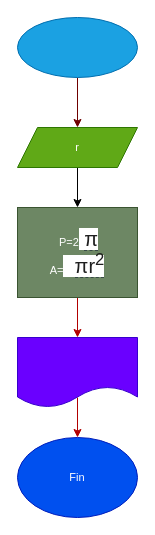
Image size: 155x535. Some labels were removed from this diagram. The shapes that lost their labels are listed below. From the top down, each one's box as (x1, y1, x2, y2) in pixels, then its label:
(16, 16, 138, 78): Inicio
(16, 336, 138, 408): p,a
